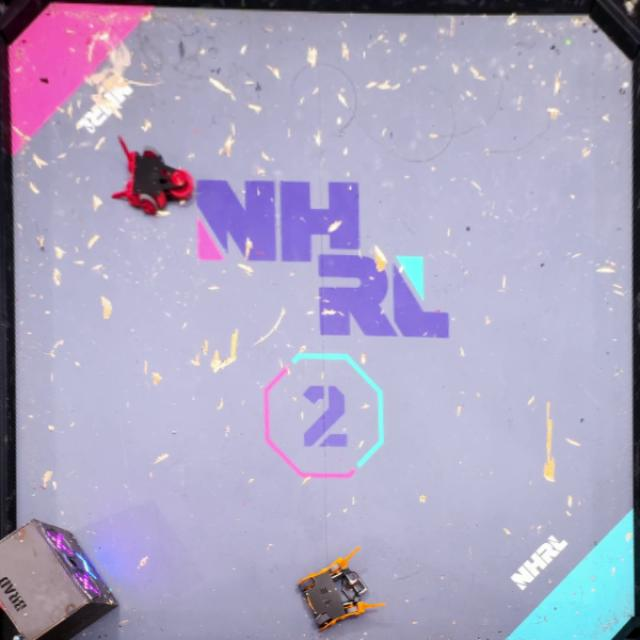housebot: (0, 518, 118, 639)
robot: (295, 544, 388, 632), (111, 137, 193, 215)
